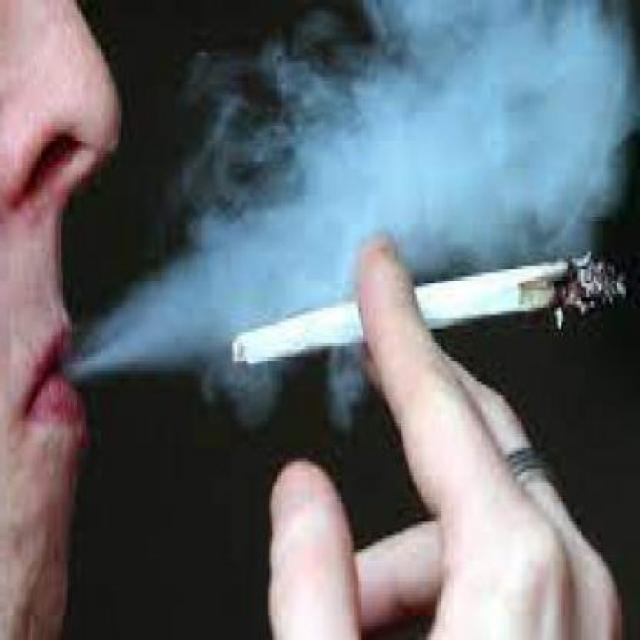cigarette: (226, 241, 628, 374)
